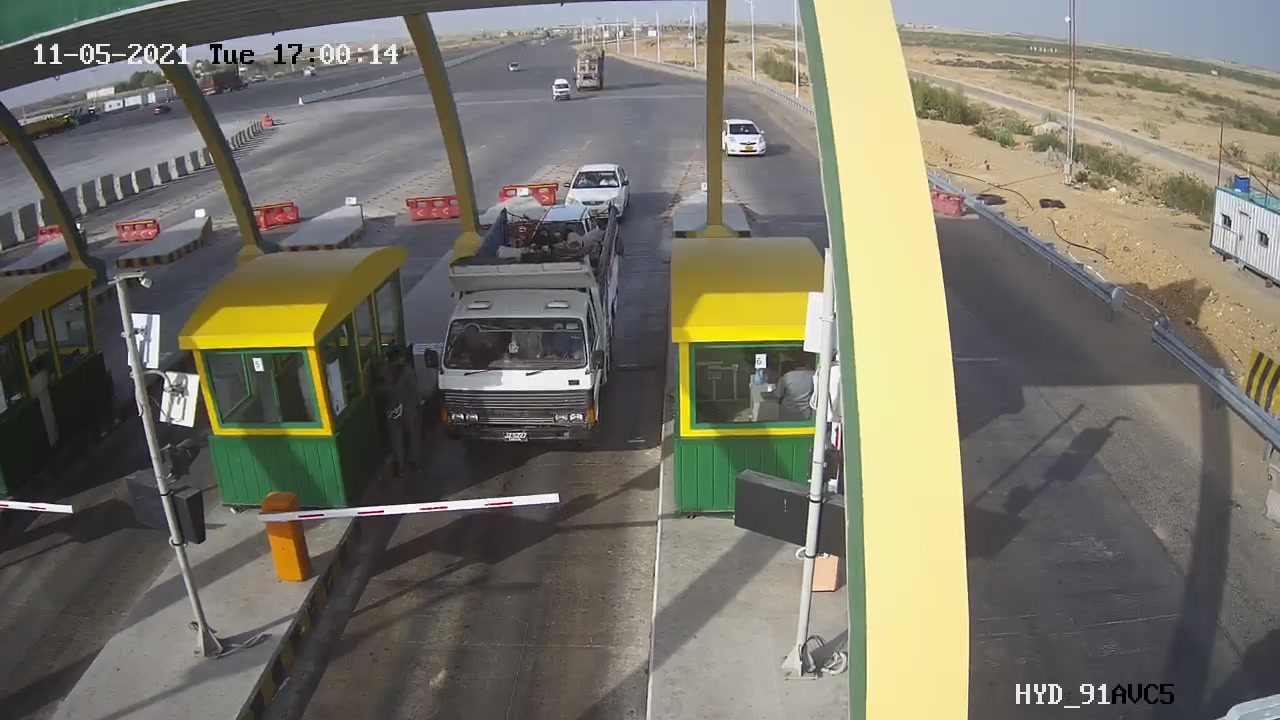F3: (413, 195, 639, 457)
